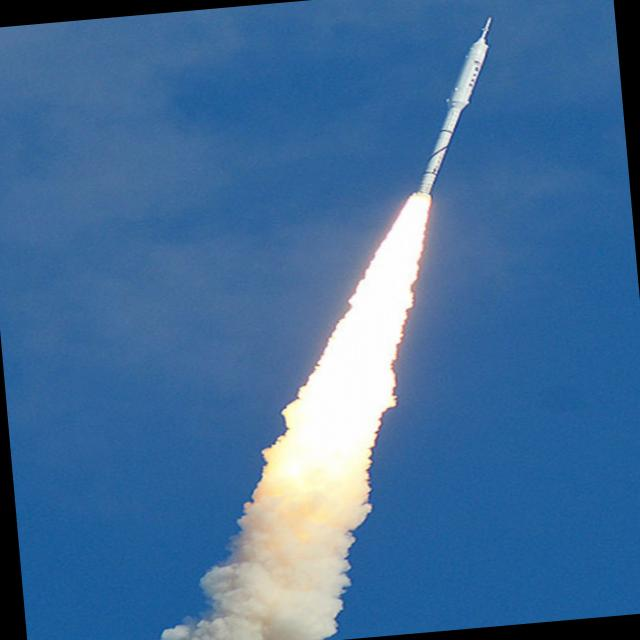rocket: (309, 9, 530, 340)
